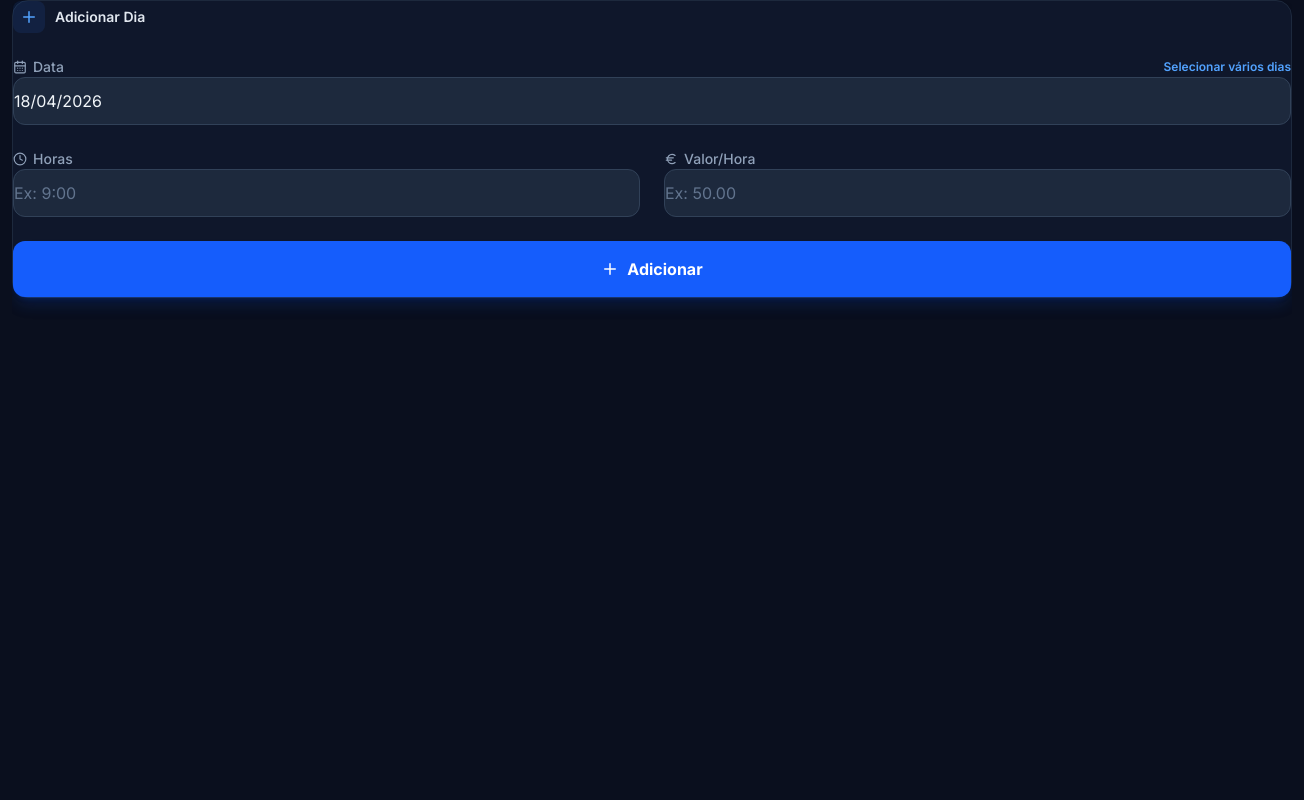
Scenario: AddEntryCard (unit) › should show error when no date is selected after clearing
// Open calendar first
Click the field with placeholder "Selecione uma data". click: coordinates (652, 101)
box: [13,77,1291,125]
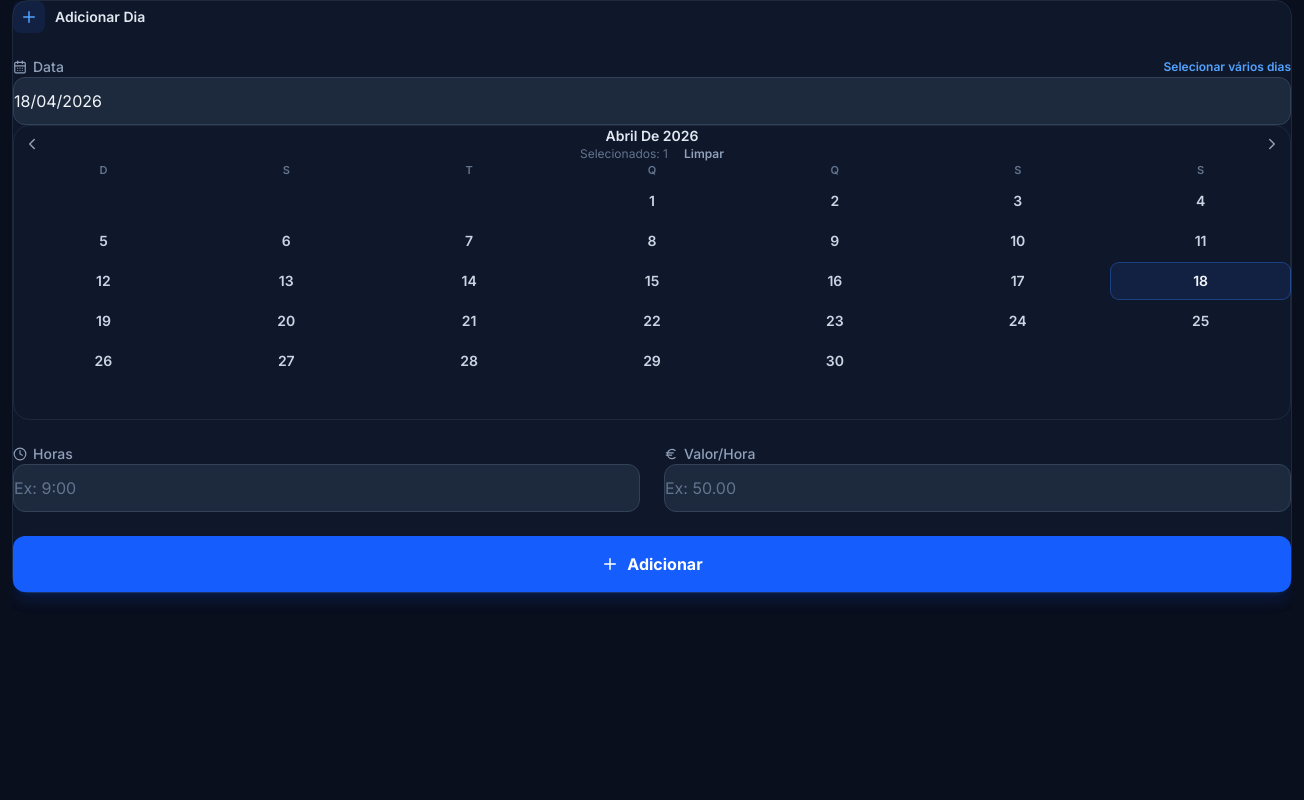
// Clear selected dates
Click the button "Limpar". click: coordinates (704, 154)
box: [684,146,724,162]
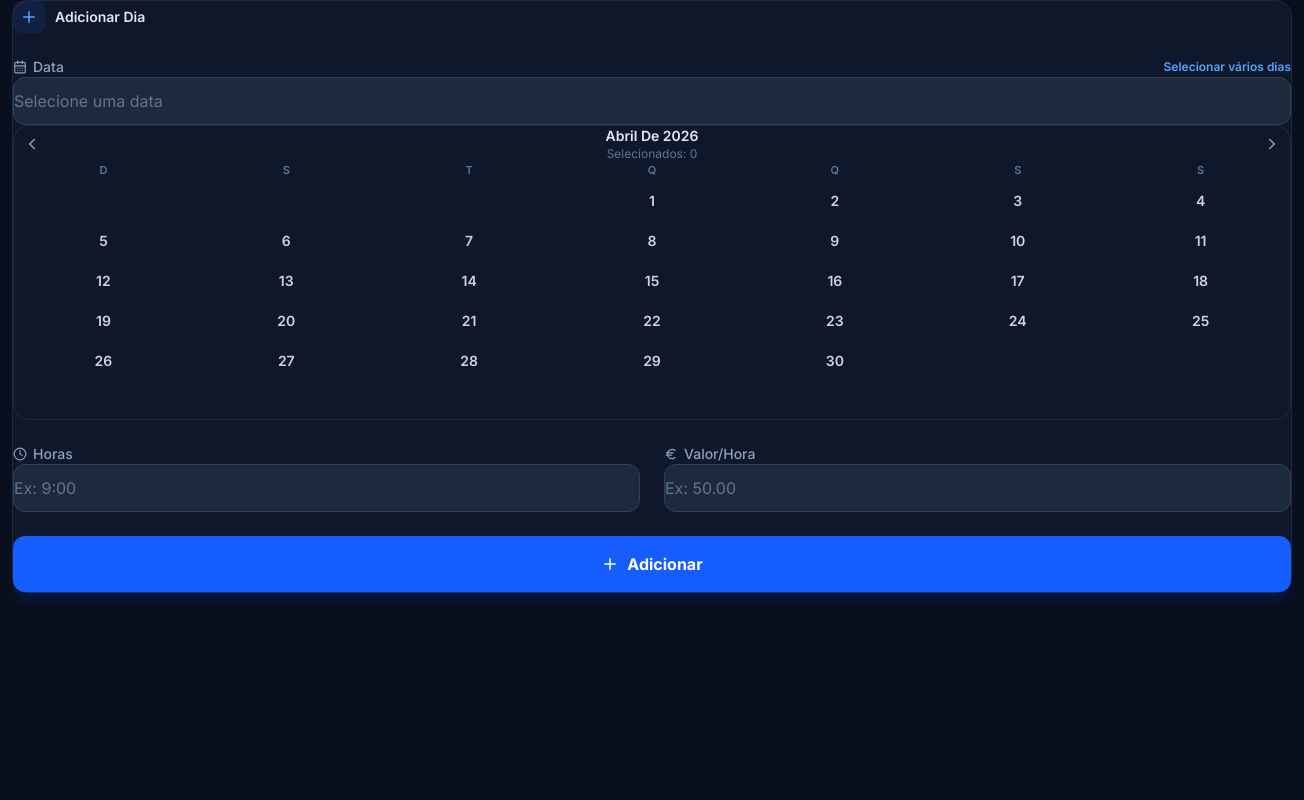
Type "8:00" into the field with placeholder "Ex: 9:00". click: coordinates (326, 488)
box: [13,464,640,512]
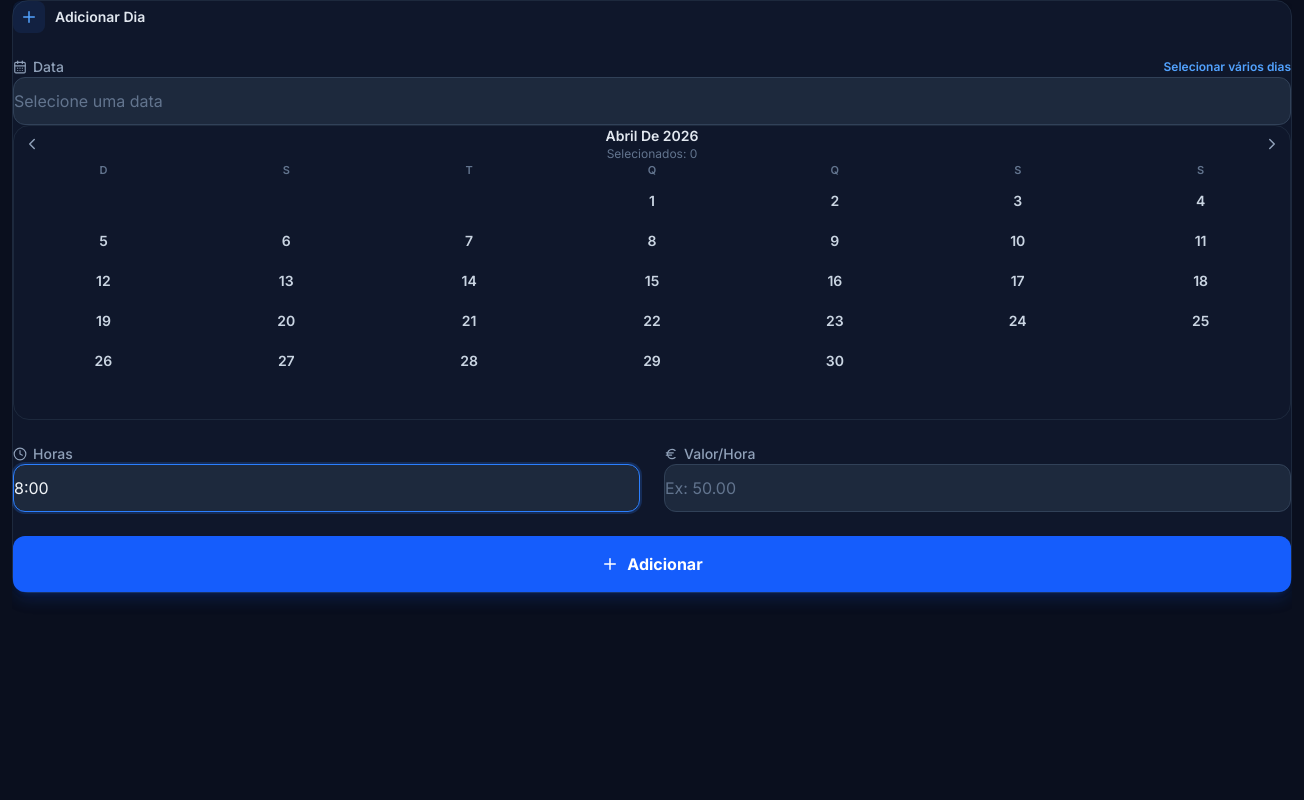
Type "50" into the number field with placeholder "Ex: 50.00". click: coordinates (978, 488)
box: [664,464,1291,512]
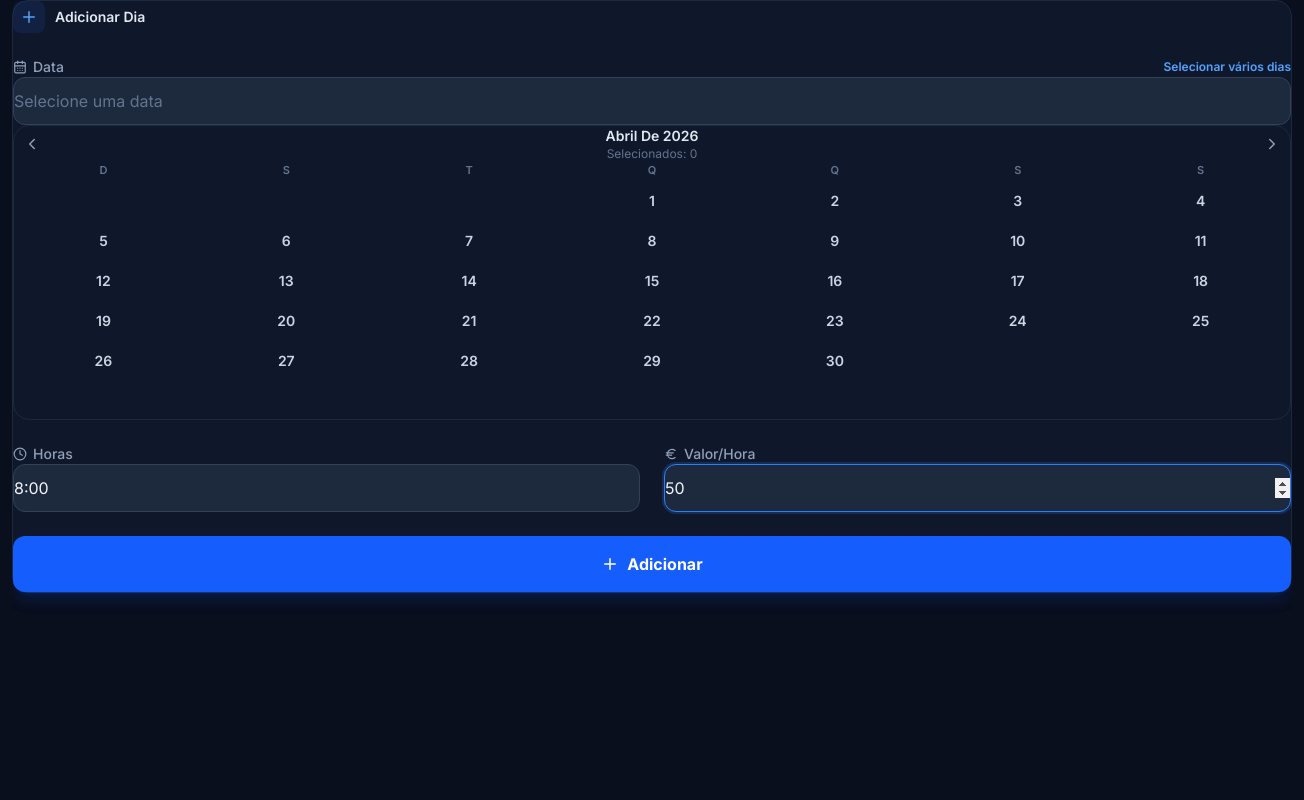
Click the button "Adicionar". click: coordinates (652, 564)
box: [13,536,1291,592]
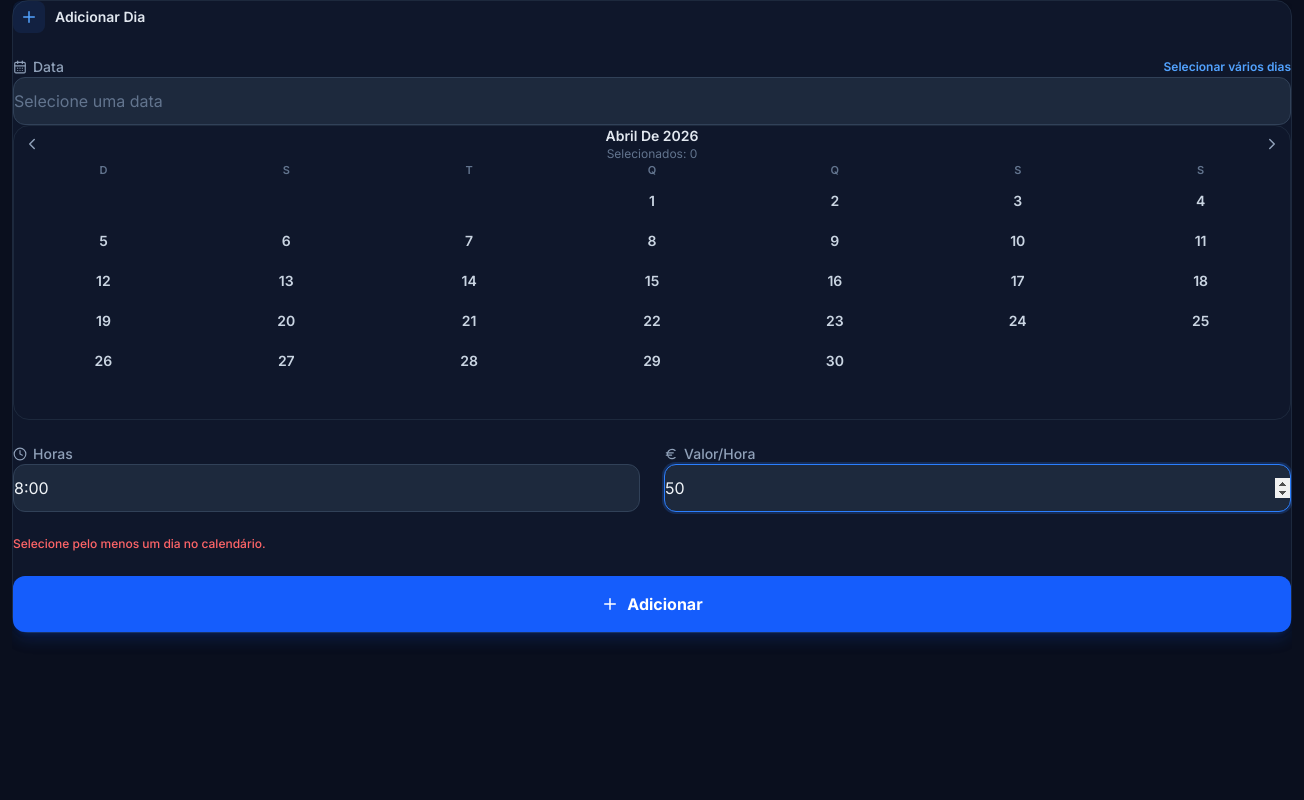
Result: the text "Selecione pelo menos um dia no calendário." is shown at [13,536,266,550]
